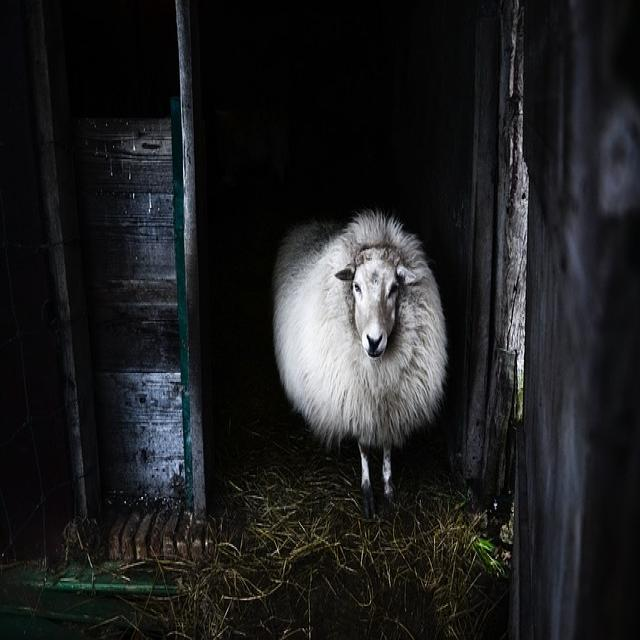goat: (272, 210, 446, 517)
